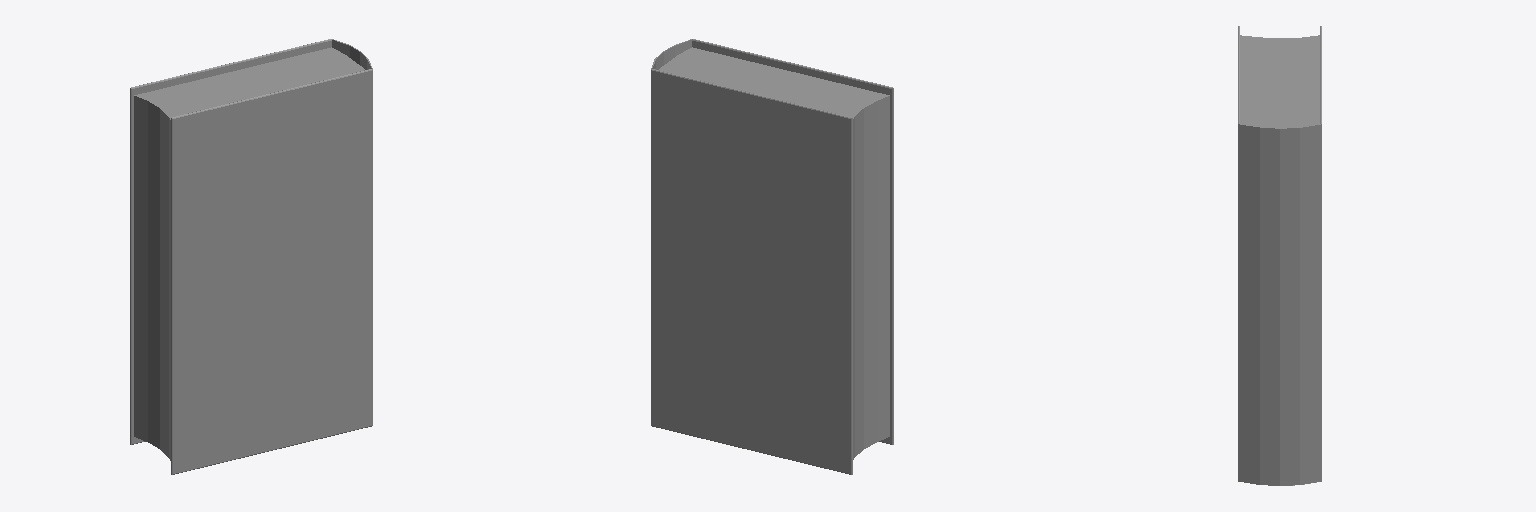
File: libro.obj
3 views of the same model, side by side, from view 1: azimuth 30°, elevation 25°; view 2: azimuth 150°, elevation 25°; view 3: azimuth 270°, elevation 25° (orthographic).
Visible parts, largest first — view 1: face_avant, pages, face_arriere; view 2: face_arriere, pages, face_avant; view 3: tranche, pages, face_arriere, face_avant.
Boxes of the visible parts, x1,y1,x2,y2 form: face_avant: [171, 69, 372, 474]; pages: [134, 47, 364, 460]; face_arriere: [130, 39, 331, 444]; face_arriere: [651, 69, 852, 474]; pages: [659, 47, 889, 459]; face_avant: [692, 39, 893, 444]; tranche: [1238, 124, 1321, 485]; pages: [1240, 35, 1319, 127]; face_arriere: [1320, 26, 1321, 480]; face_avant: [1238, 26, 1239, 480].
Size of the model in its own units: 0.9654 by 1.57 by 0.3353.